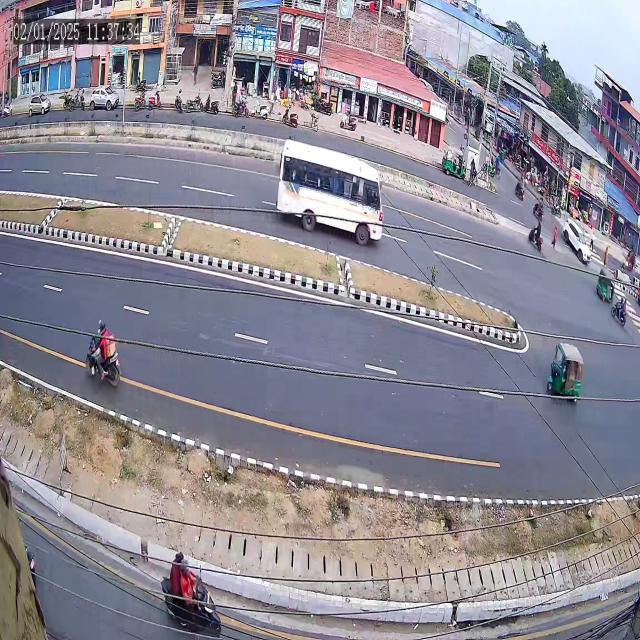auto: (538, 332, 590, 412), (587, 258, 616, 308)
bus: (268, 124, 387, 270)
motorcycle: (154, 530, 230, 640), (80, 301, 136, 404), (525, 217, 548, 268)
